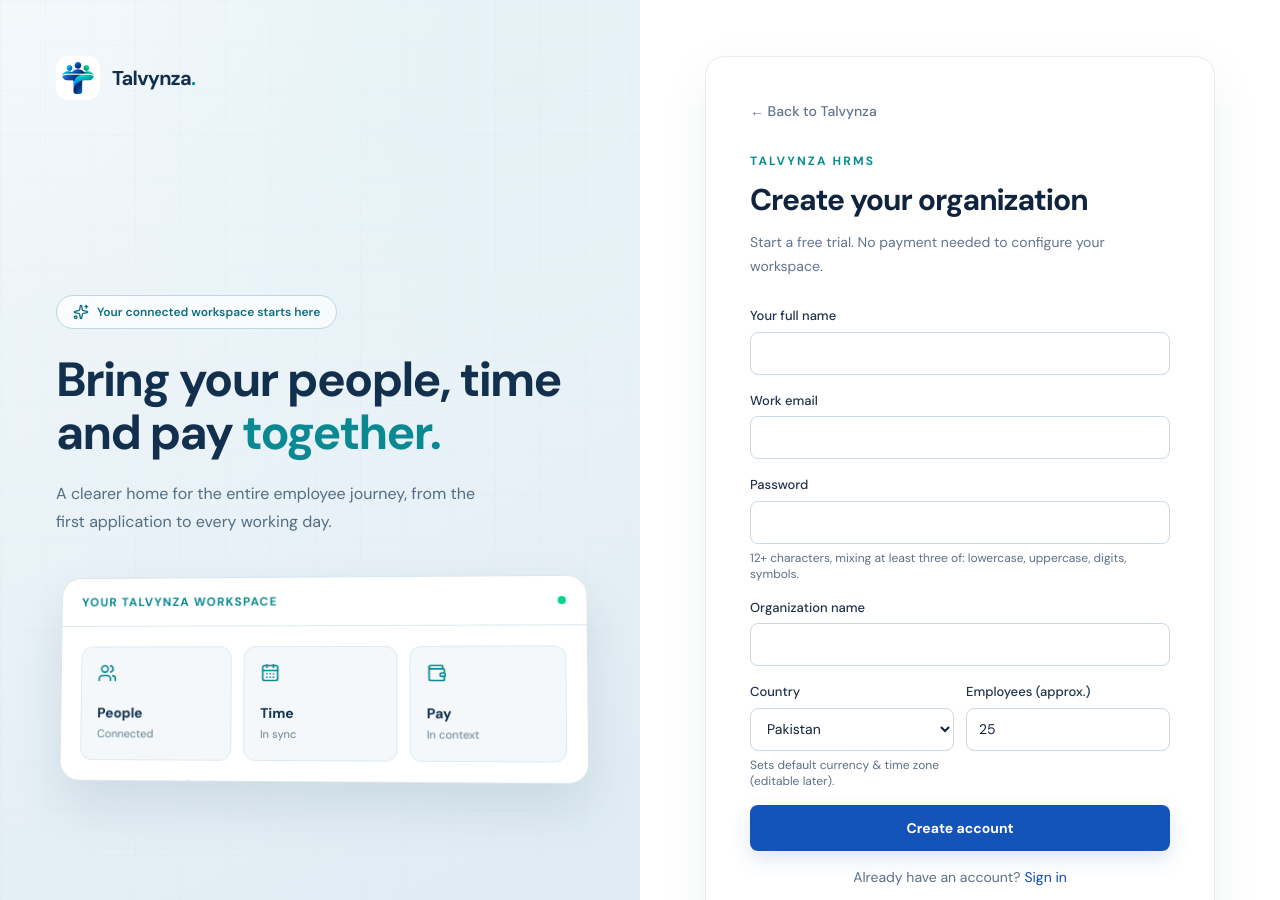
Scenario: auth pages › registers with country-derived currency and time zone, then shows the ready state
In the field labelled "Your full name": x=960, y=353 750,332 -> 1170,374, type "Sam Tester"
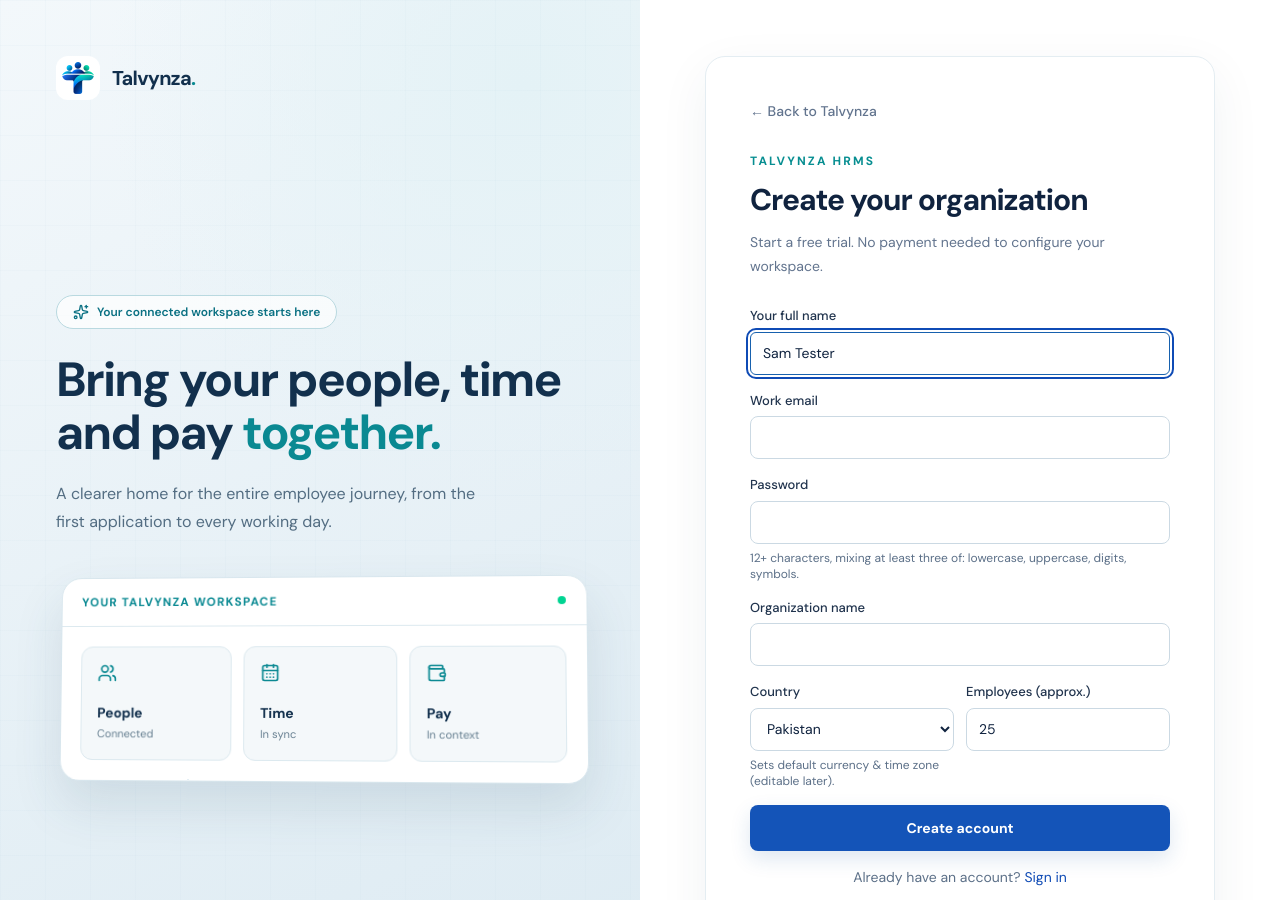
In the field labelled "Work email": x=960, y=438 750,416 -> 1170,459, type "sam@acme.co"
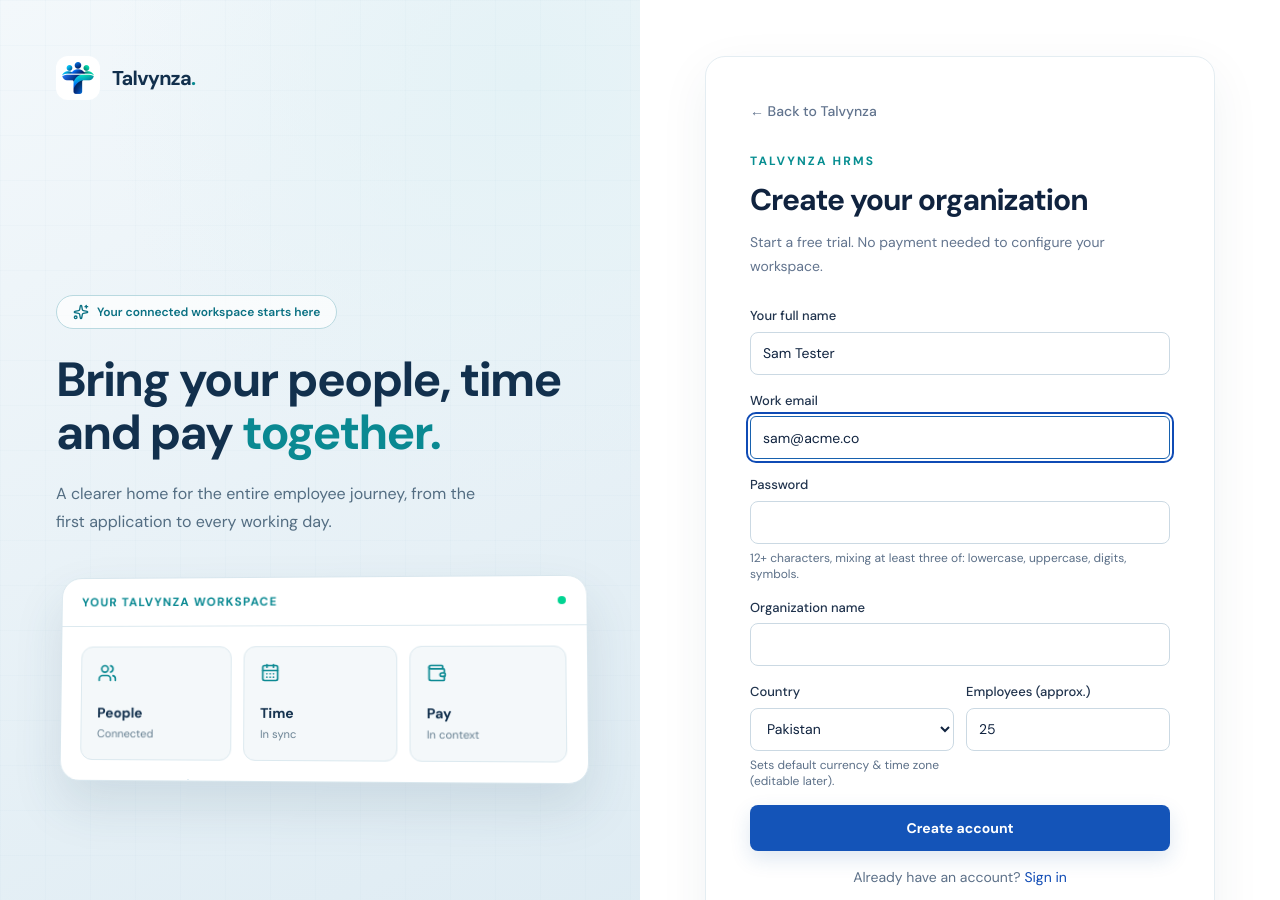
In the password field labelled "Password": x=960, y=522 750,500 -> 1170,544, type "Correct-Horse-Battery-9"
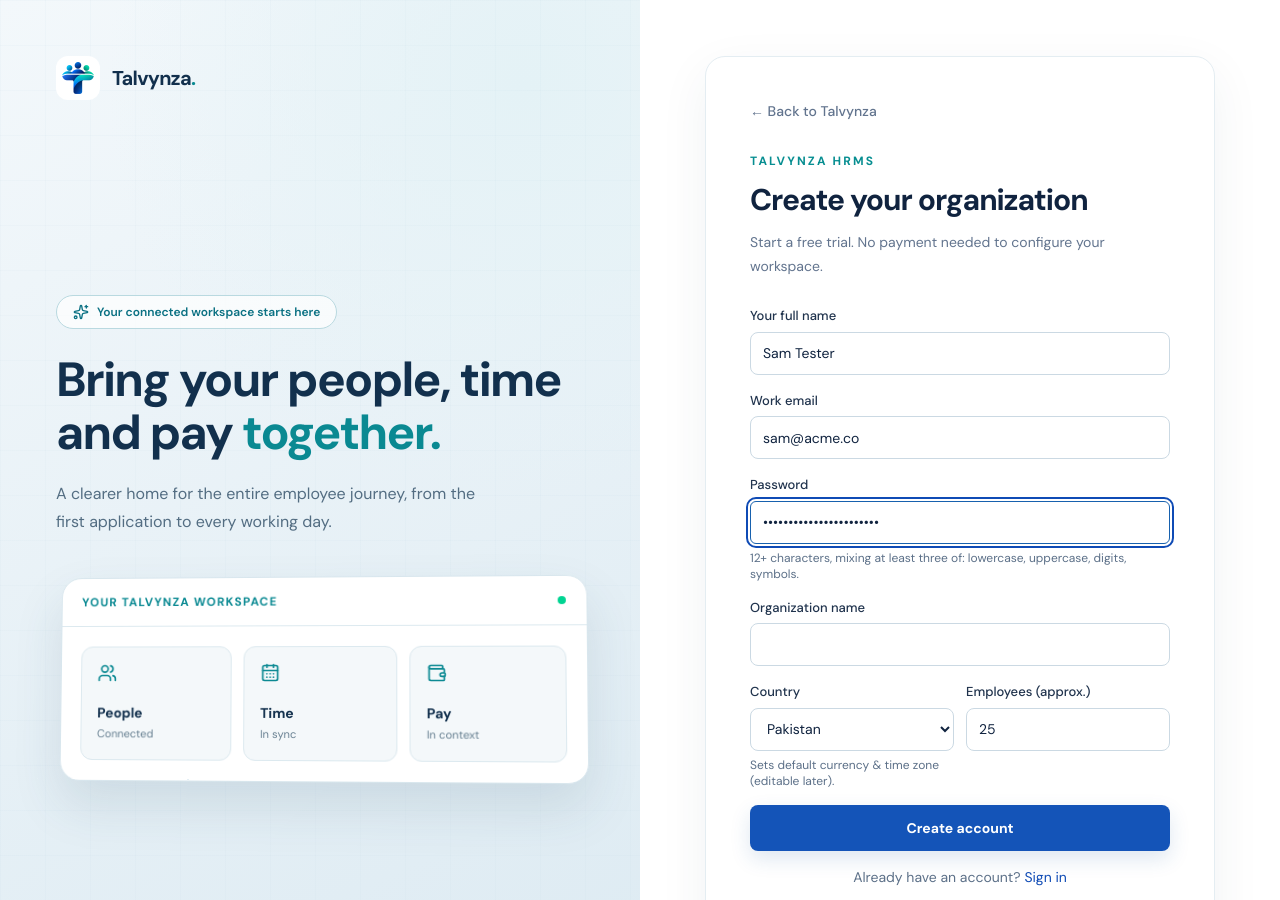
In the field labelled "Organization name": x=960, y=644 750,623 -> 1170,666, type "Acme Ltd"
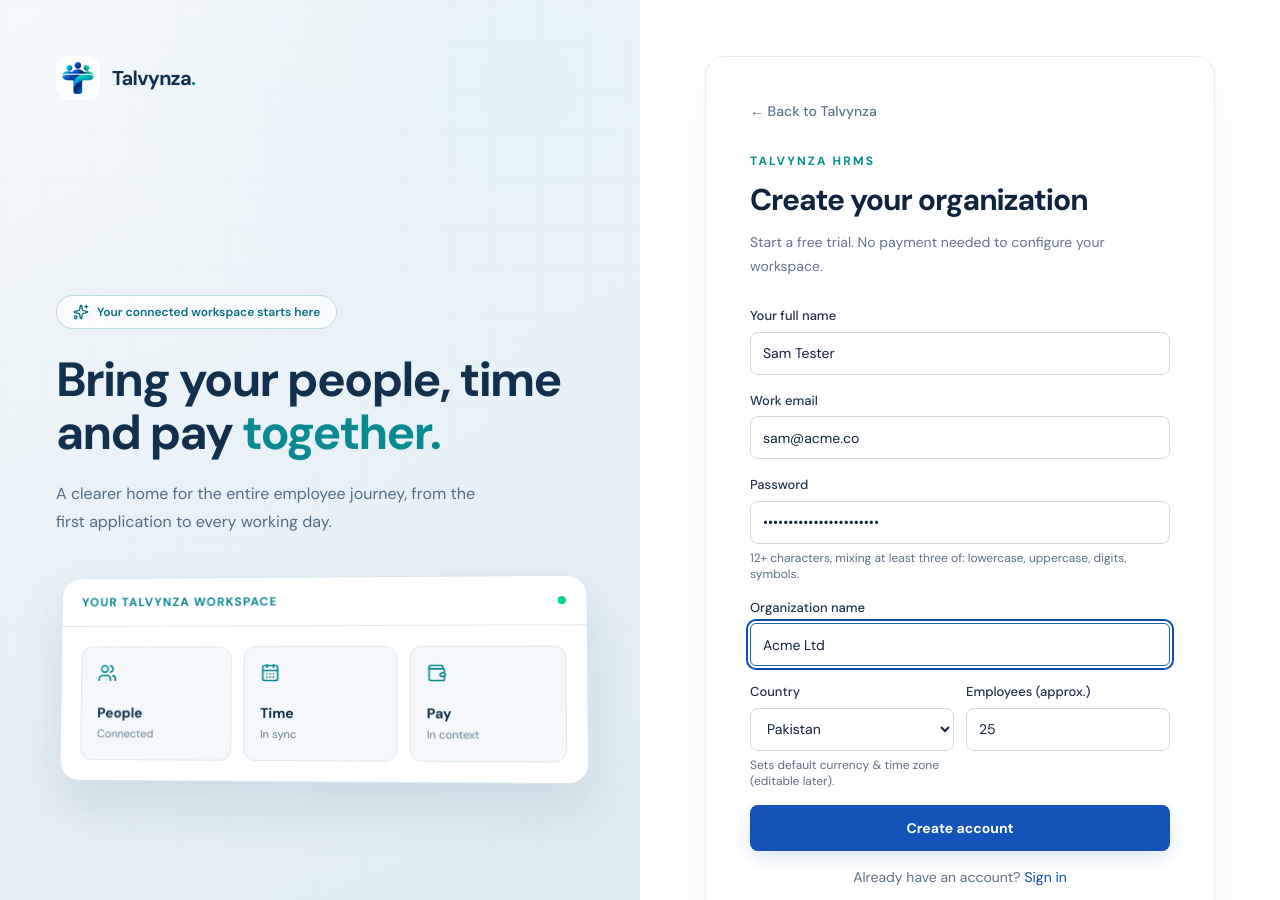
Click the button "Create account": x=960, y=828 750,804 -> 1170,850
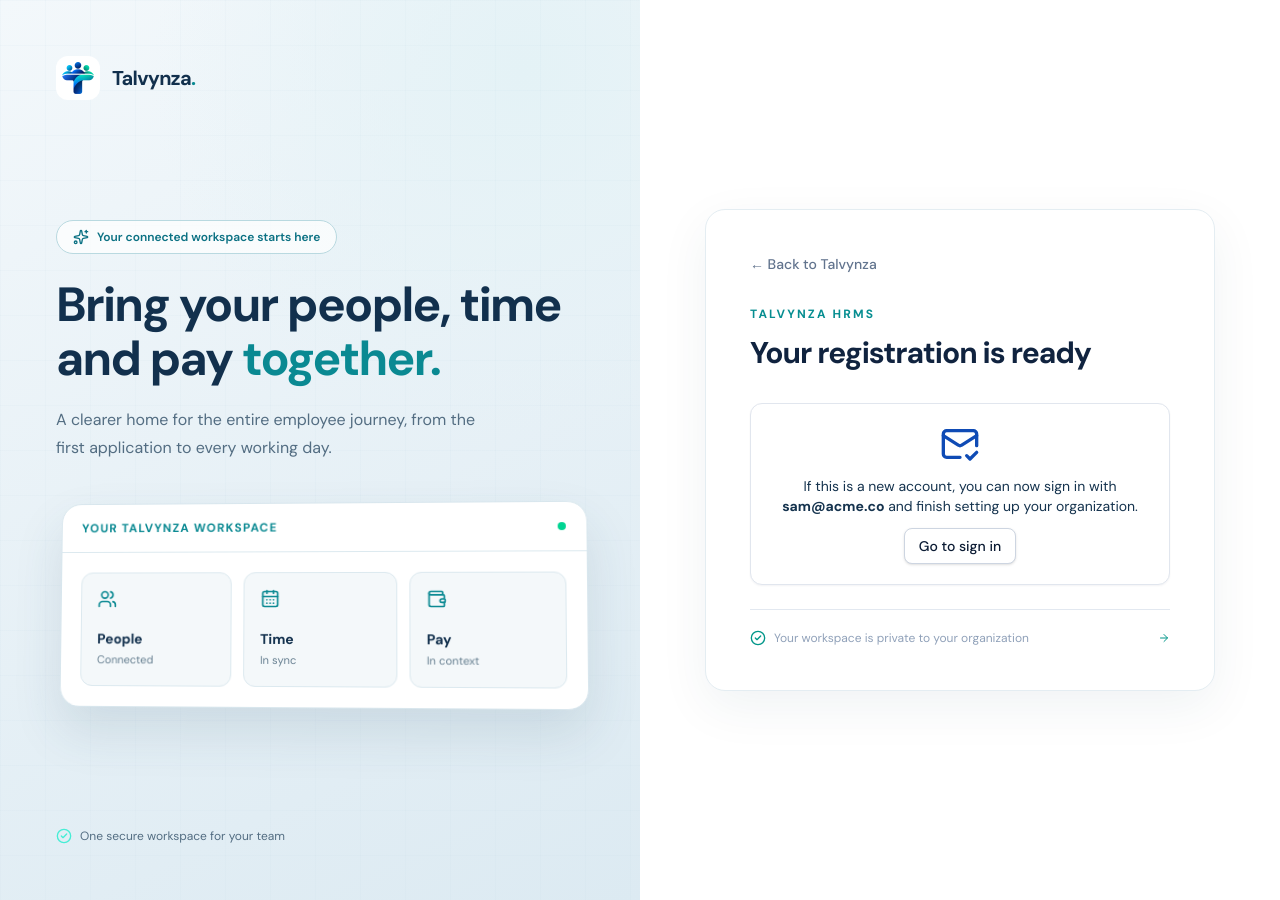
Expected: the heading "Your registration is ready" is shown, 750,333 -> 1091,372
